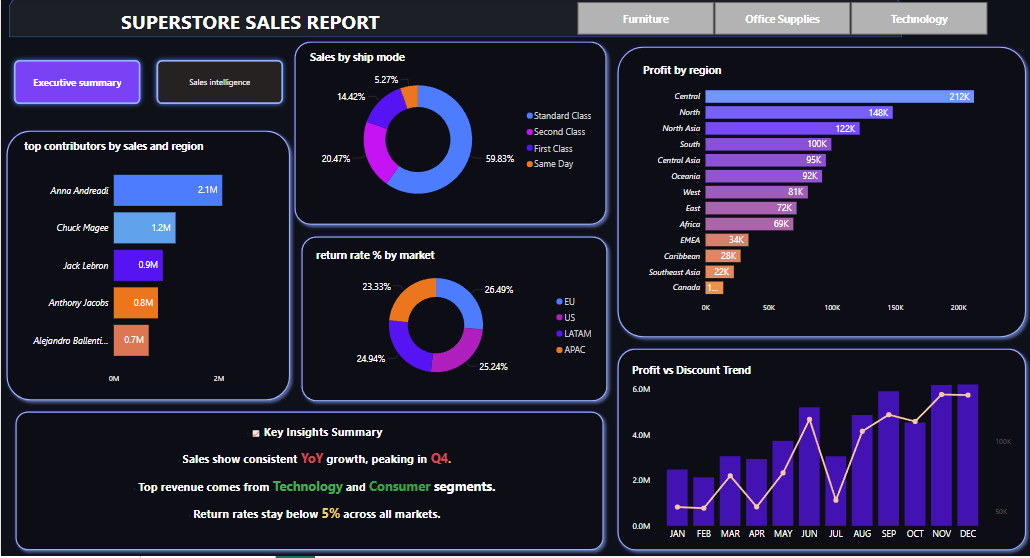

The dashboard page shown, as its layout file describes it:
{"tool":"powerbi","page":{"name":"Sales intelligence","canvas":[1700,920],"ordinal":1},"visuals":[{"type":"shape","box":[13.8,0,1472.3,64.6],"z":0},{"type":"textbox","box":[36.5,11.5,750,53.8],"z":1000},{"type":"shape","box":[1008.2,71.4,691.8,498],"z":2000},{"type":"shape","box":[0,210.2,485.7,463.3],"z":3000},{"type":"shape","box":[485.7,383.7,522.4,289.8],"z":4000},{"type":"shape","box":[1008.2,569.4,691.8,351],"z":5000},{"type":"pageNavigator","box":[13.4,94,461.2,89.6],"z":6000},{"type":"shape","box":[475.5,63.3,532.7,320.4],"z":7000},{"type":"barChart","title":"top contributors by sales and region","fields":{"Category":["people.person"],"Y":["fact_orders.total sales"],"Series":["dim_geography.region"]},"box":[32.7,230.6,426.5,414.3],"z":8000},{"type":"donutChart","fields":{"Y":["fact_orders.return rate %"],"Category":["dim_geography.market"]},"box":[514.3,410.2,473.5,234.7],"z":9000},{"type":"shape","box":[14.3,673.5,987.8,246.9],"z":10000},{"type":"donutChart","title":"Sales by ship mode","fields":{"Category":["fact_orders.ship_mode"],"Y":["fact_orders.total sales"]},"box":[504.1,83.7,483.7,275.5],"z":11000},{"type":"slicer","fields":{"Values":["dim_products.category"]},"box":[924.5,0,724.5,67.3],"z":12000},{"type":"lineStackedColumnComboChart","title":"Profit vs Discount Trend ","fields":{"Y":["fact_orders.average discount","fact_orders.Year"],"Y2":["fact_orders.profit"],"Category":["fact_orders.order month"]},"box":[1034.7,600,638.8,304.1],"z":13000},{"type":"clusteredBarChart","title":"Profit by region","fields":{"Category":["dim_geography.region"],"Y":["fact_orders.total profit"]},"box":[1053.1,106.1,620.4,422.4],"z":14000},{"type":"textbox","box":[36.7,698,951,206.1],"z":15000}]}

Visuals, with their boxes in screenshot pixels (x1, y1, x2, y2), scaled from the page's 1700x920 canvas onto the 1030x558 screenshot:
shape: (x1=8, y1=0, x2=900, y2=39)
textbox: (x1=22, y1=7, x2=477, y2=40)
shape: (x1=611, y1=43, x2=1029, y2=345)
shape: (x1=0, y1=127, x2=294, y2=408)
shape: (x1=294, y1=233, x2=611, y2=408)
shape: (x1=611, y1=345, x2=1029, y2=557)
pageNavigator: (x1=8, y1=57, x2=288, y2=111)
shape: (x1=288, y1=38, x2=611, y2=233)
"top contributors by sales and region" barChart: (x1=20, y1=140, x2=278, y2=391)
donutChart - fact_orders.return rate % x dim_geography.market: (x1=312, y1=249, x2=598, y2=391)
shape: (x1=9, y1=408, x2=607, y2=557)
"Sales by ship mode" donutChart: (x1=305, y1=51, x2=598, y2=218)
slicer - dim_products.category: (x1=560, y1=0, x2=999, y2=41)
"Profit vs Discount Trend " lineStackedColumnComboChart: (x1=627, y1=364, x2=1014, y2=548)
"Profit by region" clusteredBarChart: (x1=638, y1=64, x2=1014, y2=321)
textbox: (x1=22, y1=423, x2=598, y2=548)
